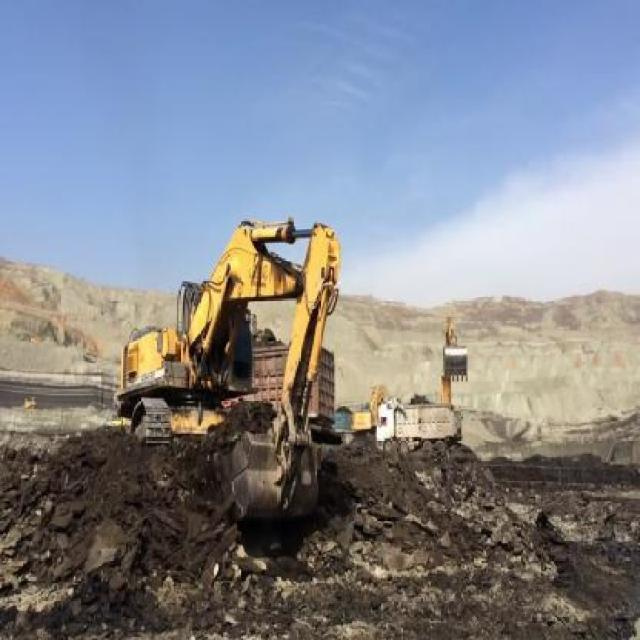dump_truck: (377, 398, 461, 453)
excavator: (117, 189, 341, 533), (434, 316, 468, 393), (352, 379, 382, 441)
